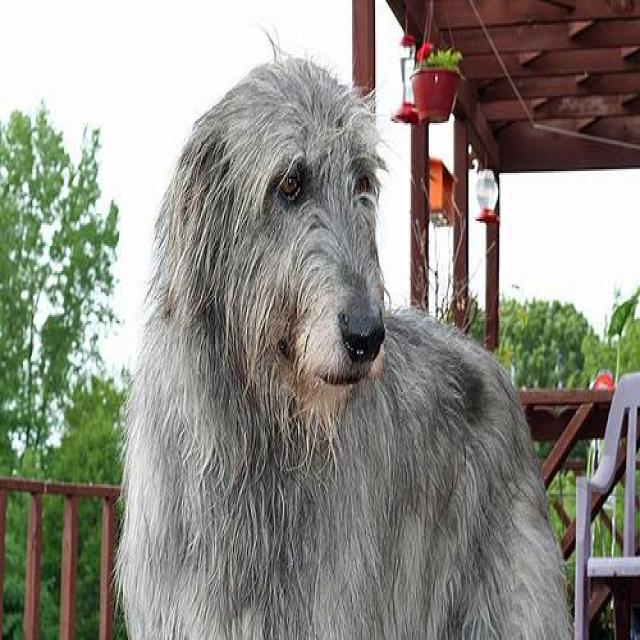irish_wolfhound: (118, 56, 571, 638)
